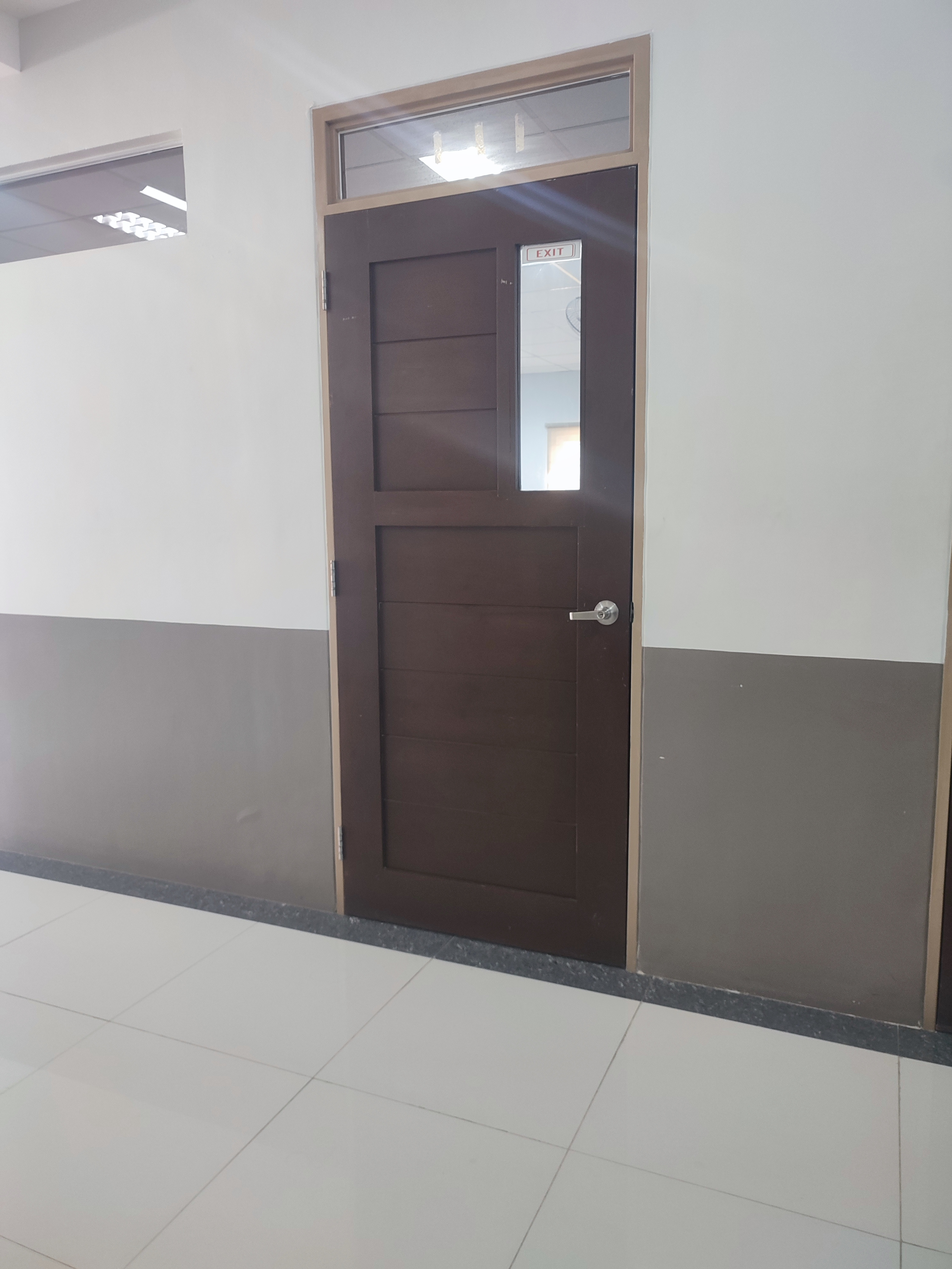door: (313, 39, 650, 973)
